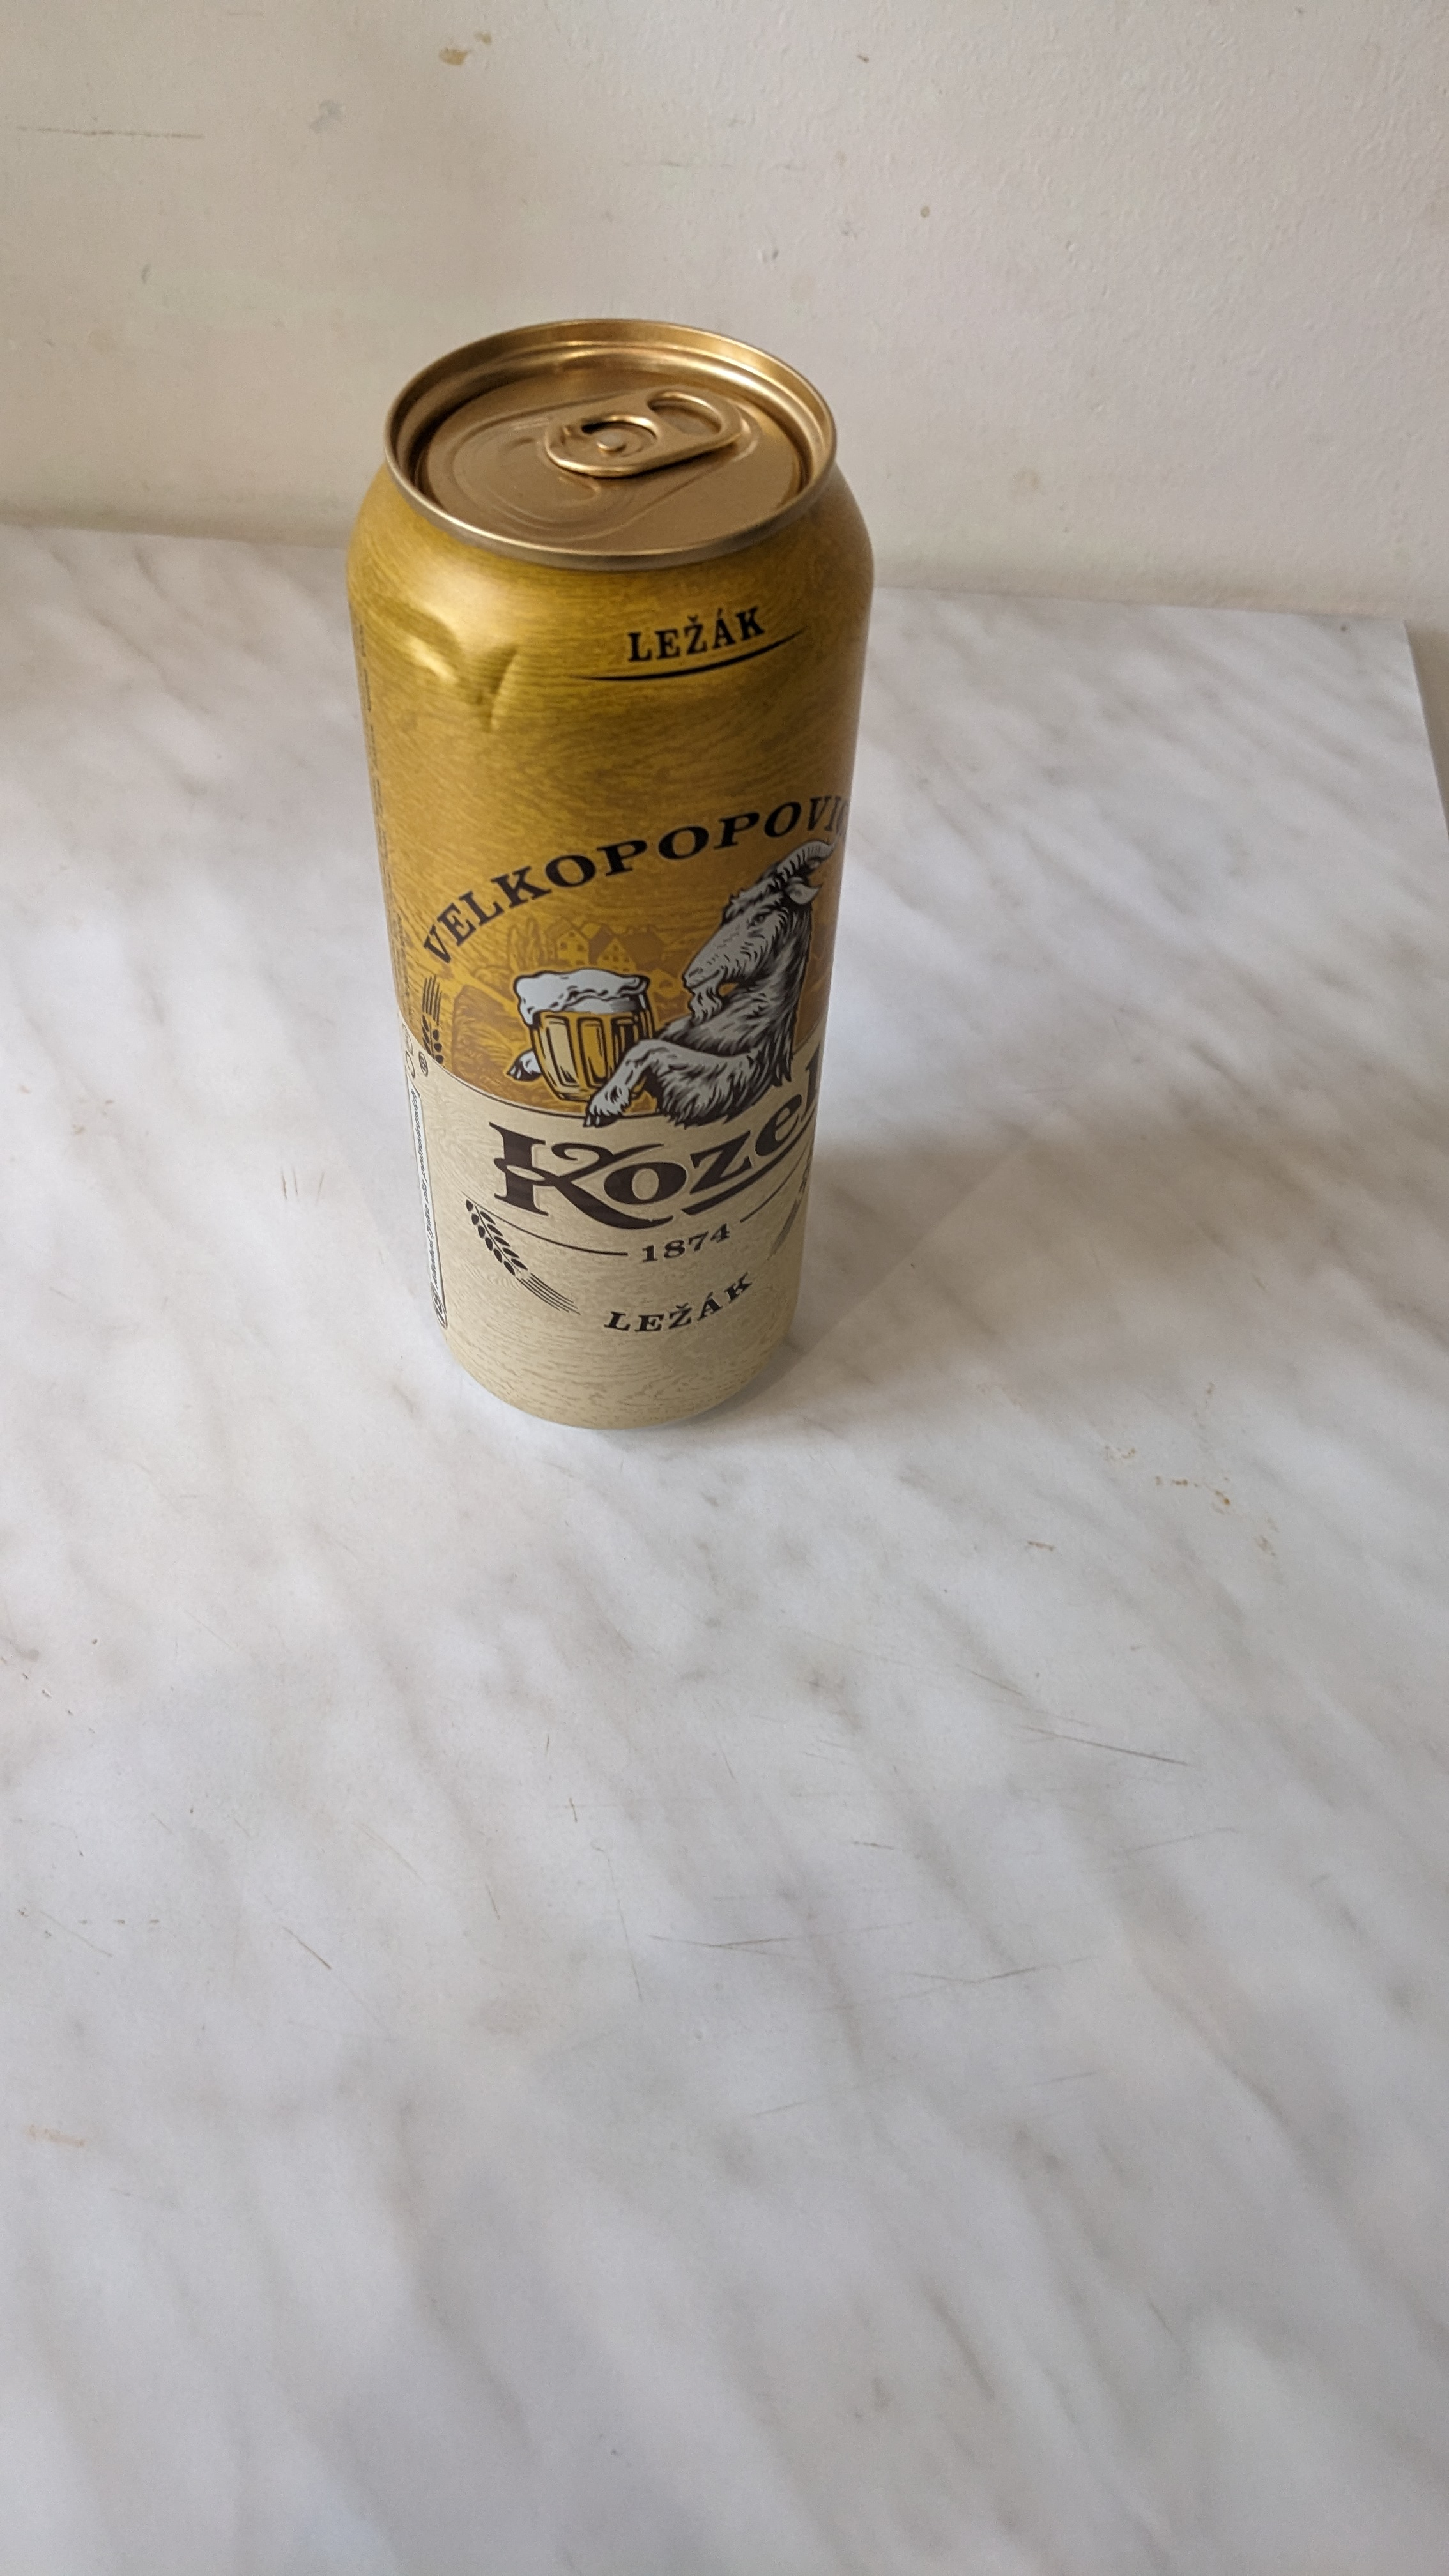kozel: (333, 320, 888, 1460)
